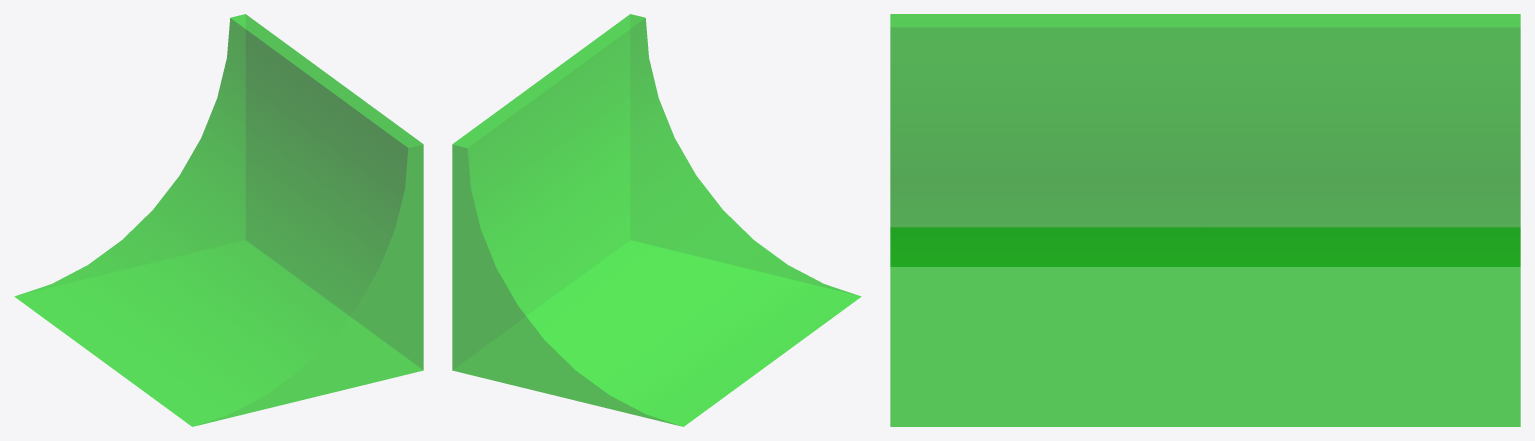
File: Ramp_Mesh.fbx
3 renders of one model, left to right at view 1: azimuth 30°, elevation 25°; view 2: azimuth 150°, elevation 25°; view 3: azimuth 270°, elevation 25°, orthographic. The views are drawn at different scales.
Parts seen in each view (by area): view 1: Body; view 2: Body; view 3: Body.
Boxes of the visible parts, x1,y1,x2,y2 form: Body: (14, 14, 423, 426); Body: (452, 14, 861, 426); Body: (890, 14, 1520, 426).
Bounding box in the file's own units: 300 × 400 × 280.
